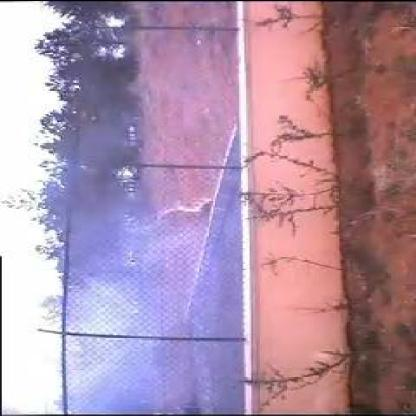-: (65, 230, 252, 384)
